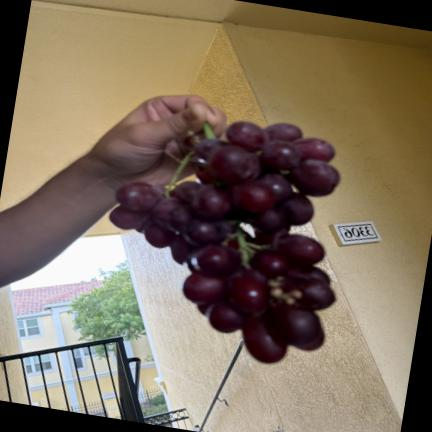grape_cluster: (110, 121, 340, 363)
